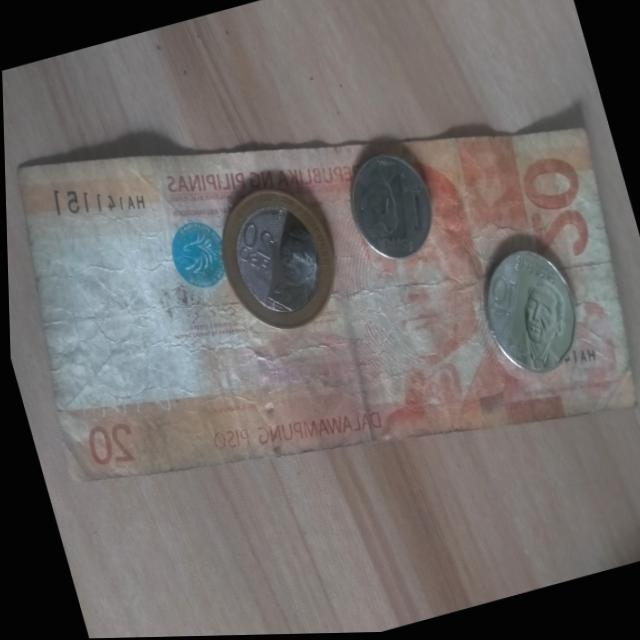1_New_Front: (348, 152, 432, 254)
